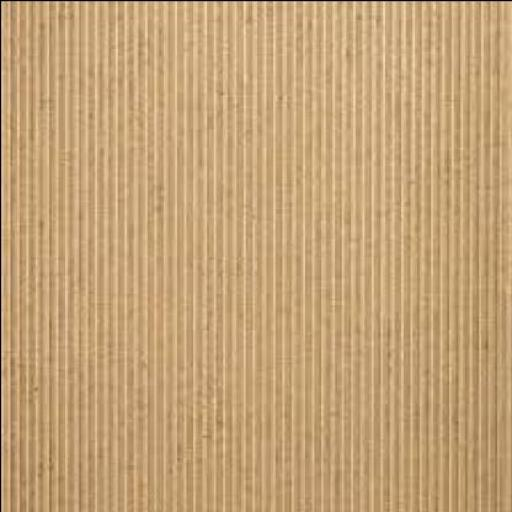cardboard: (1, 1, 510, 510)
